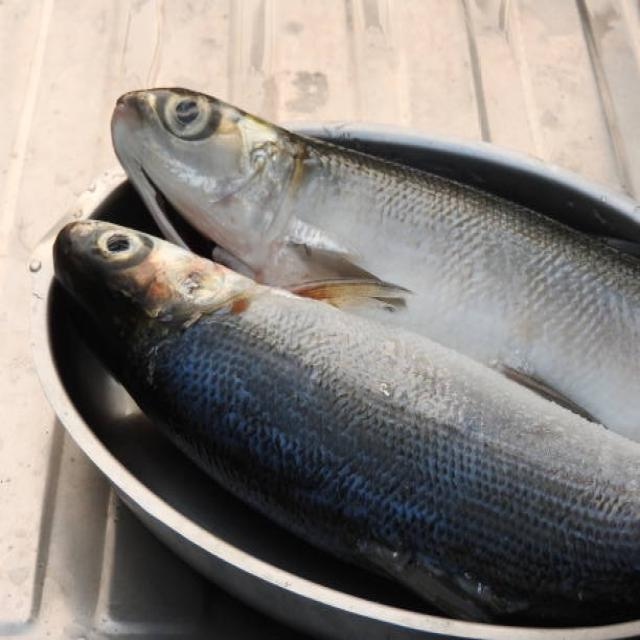Bangus: (45, 53, 640, 634)
